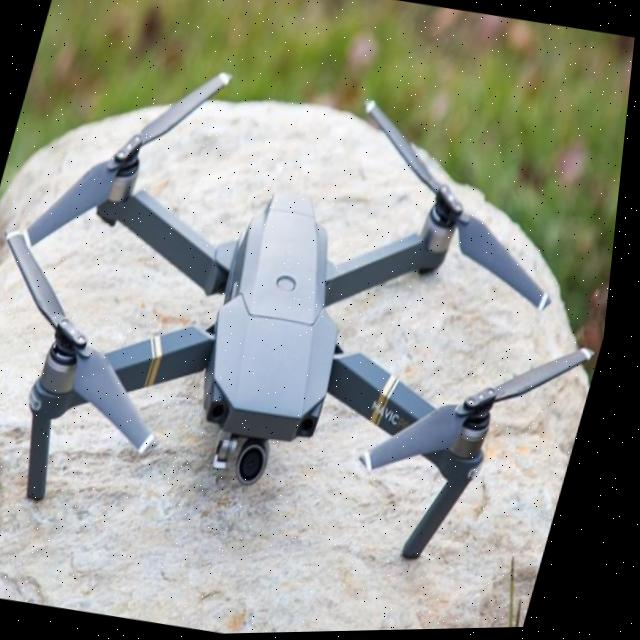drones: (0, 10, 638, 634)
